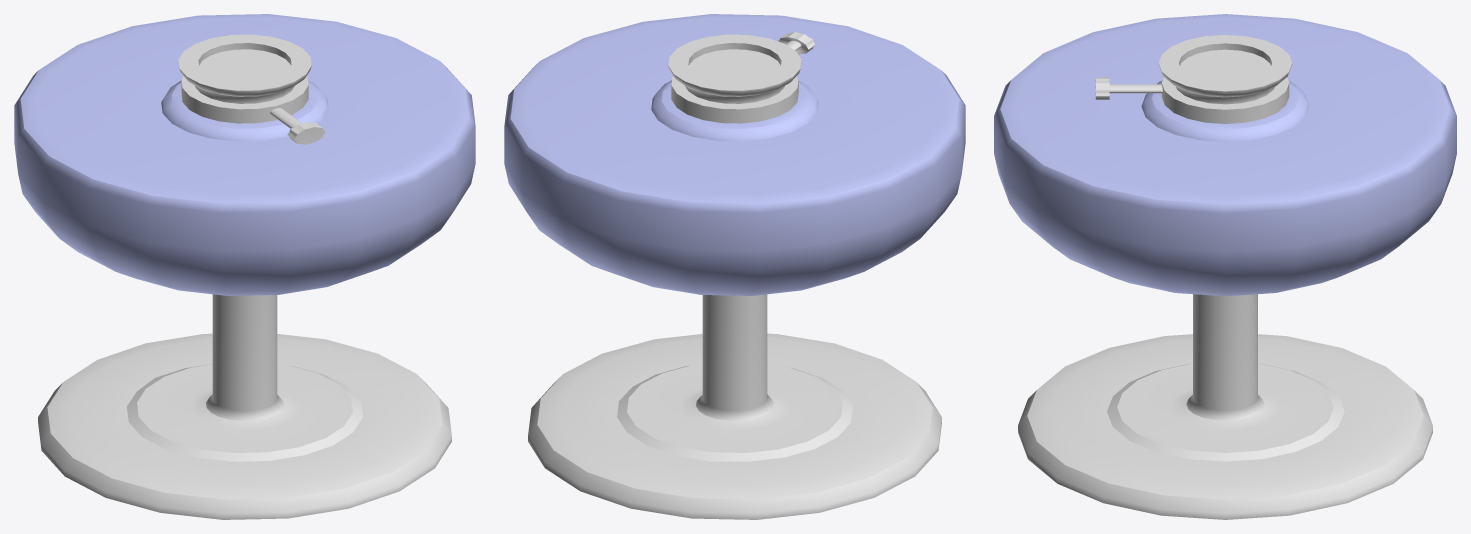
Rendered from Mesh_lampara_de_aceite_chica_blocking.fbx.
The picture shows the model from 3 angles, left to right: view 1: azimuth 30°, elevation 25°; view 2: azimuth 150°, elevation 25°; view 3: azimuth 270°, elevation 25°; orthographic projection.
Parts seen in each view (by area): view 1: lampara_de_aceite_chica_blocking; view 2: lampara_de_aceite_chica_blocking; view 3: lampara_de_aceite_chica_blocking.
Part boxes in pixels (x1,y1,x2,y2): lampara_de_aceite_chica_blocking: (14, 14, 475, 519); lampara_de_aceite_chica_blocking: (504, 14, 965, 519); lampara_de_aceite_chica_blocking: (994, 14, 1456, 519).
Size of the model in its own units: 1.78 by 1.57 by 1.78.
